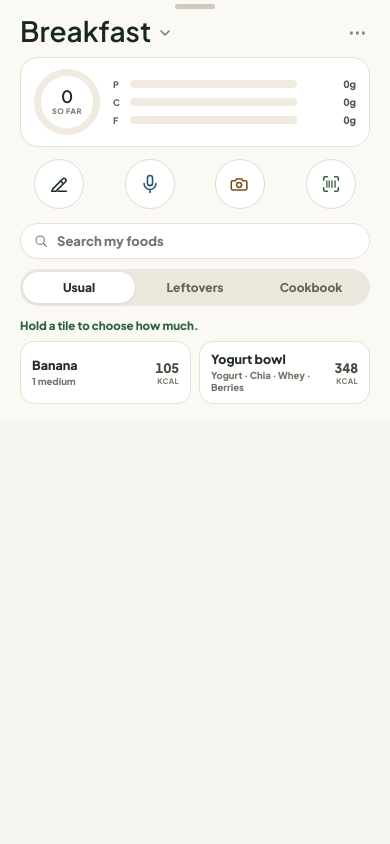
Scenario: the filter bar — your foods, every shelf › filters across shelves as you type, and clearing it brings the shelf back
The image size is (390, 844).
expect the element named "Shelves" is shown: met, box [20,269,370,306]
expect the button "Banana 1 medium 105 KCAL" is shown: met, box [20,341,191,404]
Type "stew" into the search field labelled "Search my foods". click: (207, 241)
box: [57,233,357,249]
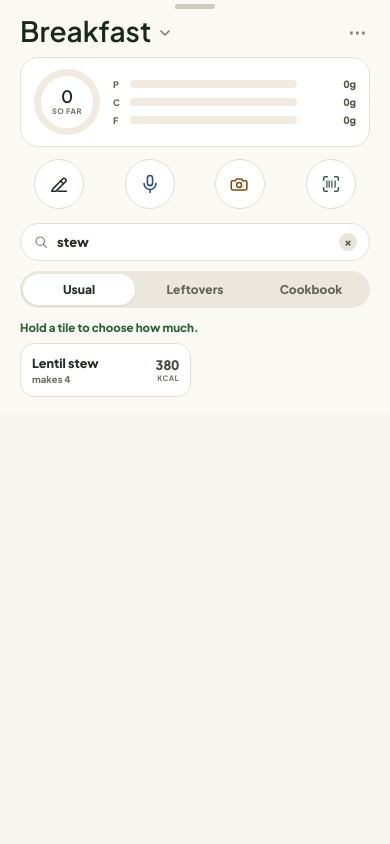
expect the button "Lentil stew makes 4 380 KCAL" is shown: met, box [20,343,191,397]
expect the button "Banana" is gone: met
Click the button named "Clear search". click: (348, 242)
box: [339,233,357,251]
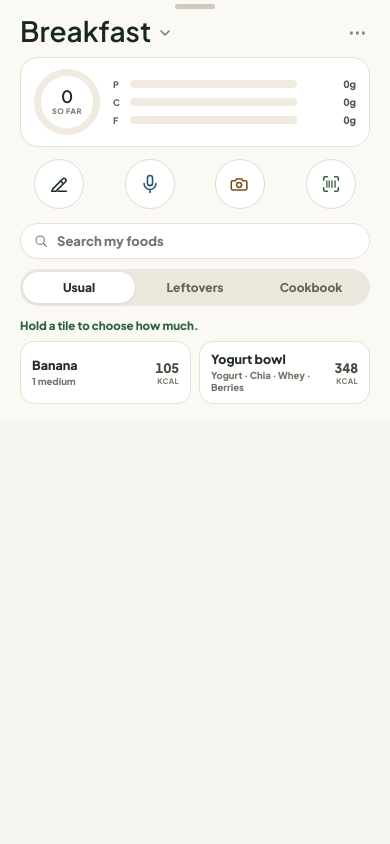
expect the button "Banana 1 medium 105 KCAL" is shown: met, box [20,341,191,404]
